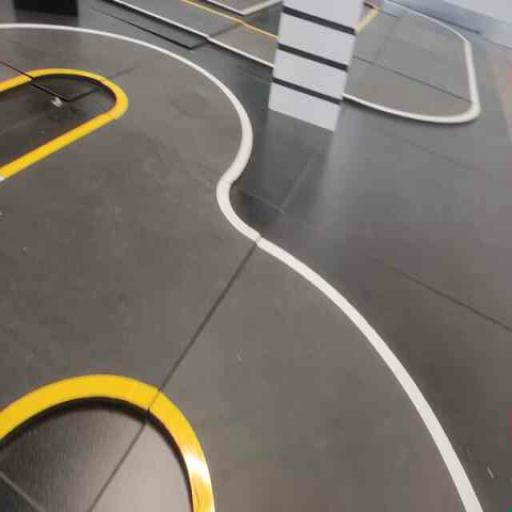left: (128, 203, 511, 511)
